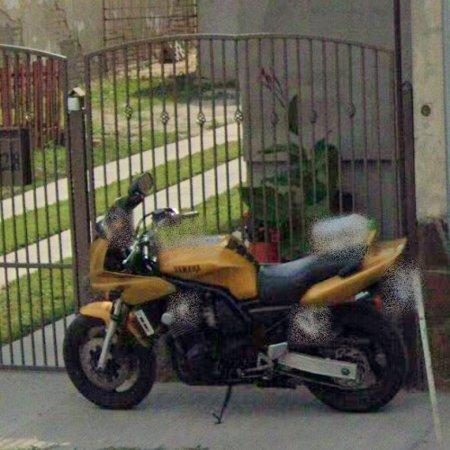motorcycles: (63, 175, 409, 413)
